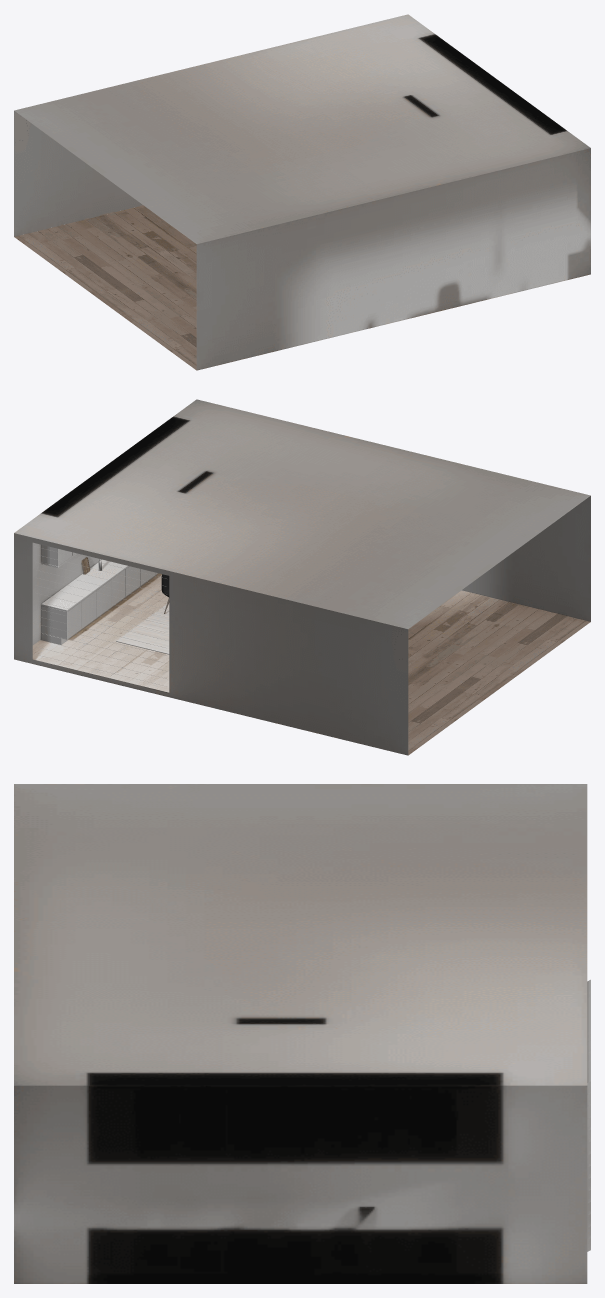
The model's file is kitchen-transformed_png-texture.glb.
3 views of the same model, one above another, from view 1: azimuth 30°, elevation 25°; view 2: azimuth 150°, elevation 25°; view 3: azimuth 270°, elevation 25° (orthographic). The views are drawn at different scales.
Parts seen in each view (by area): view 1: walls; view 2: walls, kitchen, carpet; view 3: walls.
Part boxes in pixels (box(x1,y1,x2,y2)): walls: box(14, 14, 590, 370); walls: box(14, 399, 590, 755); kitchen: box(41, 544, 158, 644); carpet: box(116, 603, 169, 654); walls: box(14, 784, 590, 1283).
Size of the model in its own units: 9.85 by 3.02 by 7.96.
Materials: 9 (8 with a texture image).
